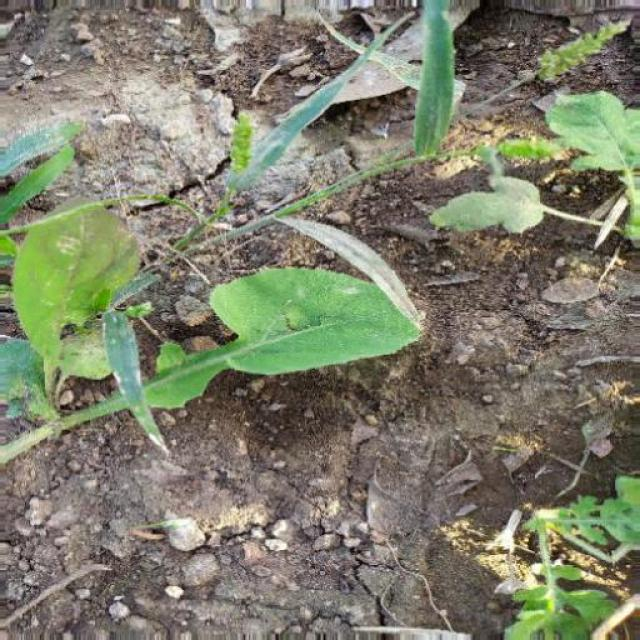weed: (1, 208, 431, 418), (434, 71, 640, 261), (492, 477, 640, 635)
